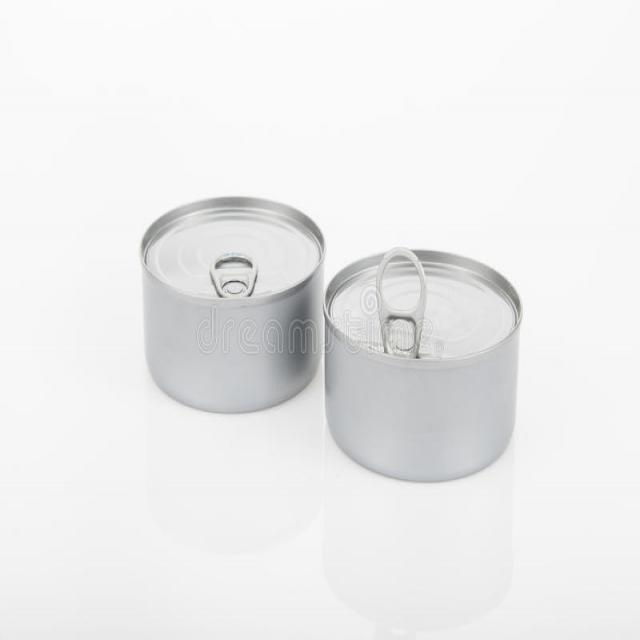Lata: (145, 201, 524, 485)
